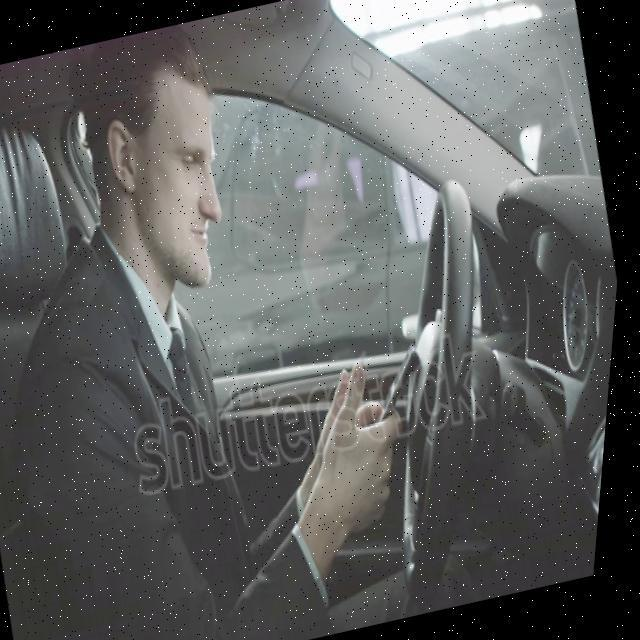PhoneCall: (358, 344, 439, 428)
